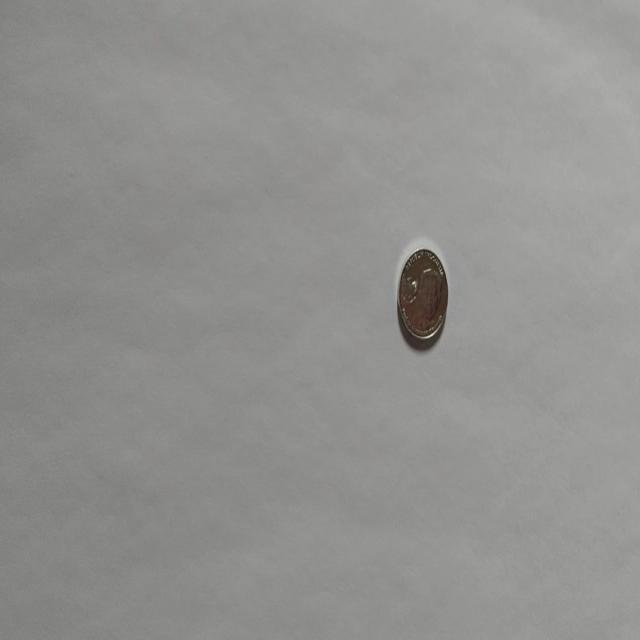seratus rupiah: (396, 246, 448, 342)
